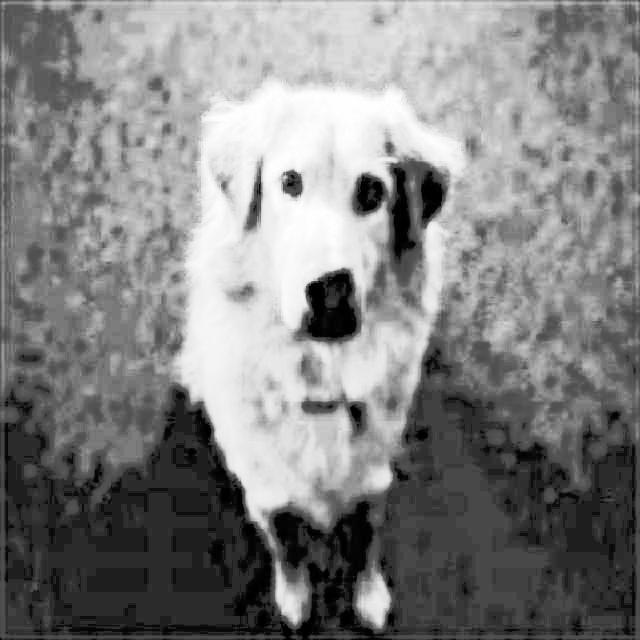Dog: (176, 72, 470, 640)
